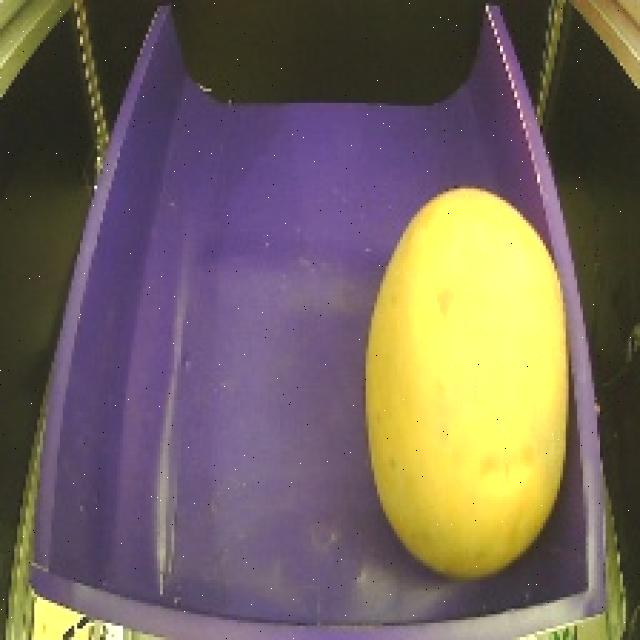full_potato: (343, 181, 581, 596)
